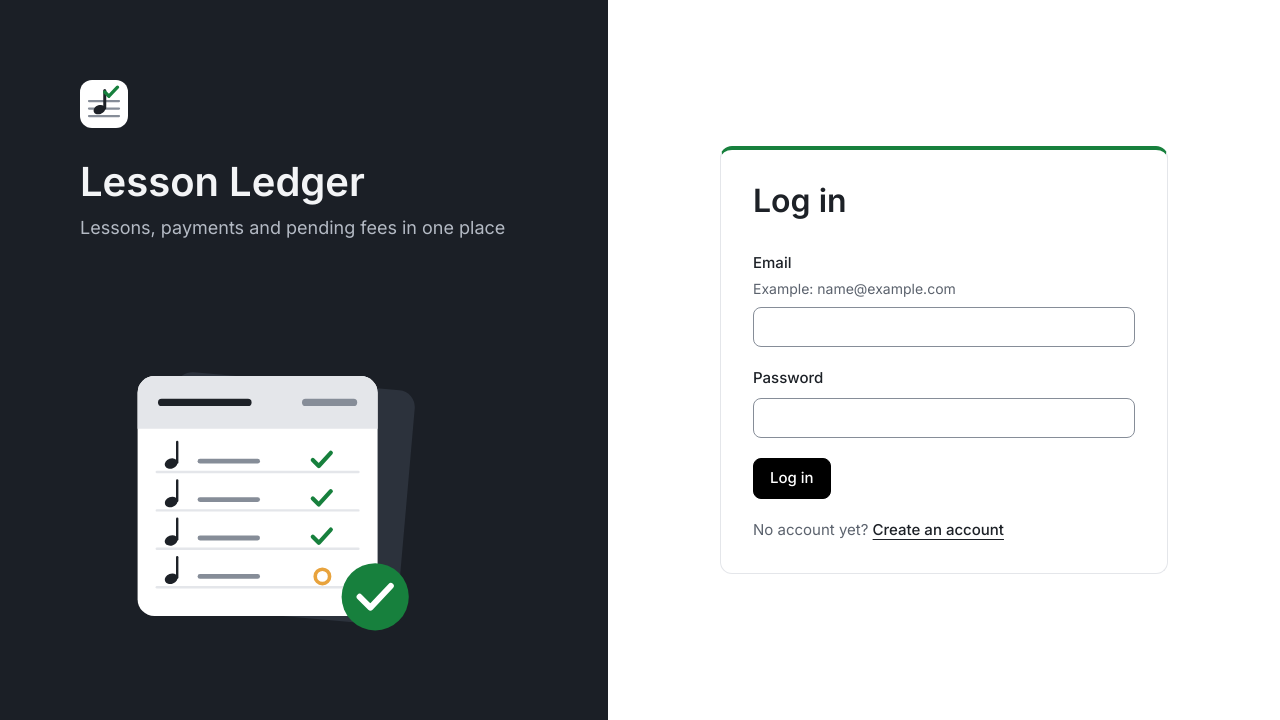
Test case: AC-2 login page › applies no format or length rule before sending
This screenshot has width=1280, height=720.
Expected: the heading "Log in" is shown, x1=753 y1=181 x2=847 y2=220
Type "not-an-email" into the field labelled "Email" at (944, 327), box x1=753 y1=307 x2=1135 y2=347
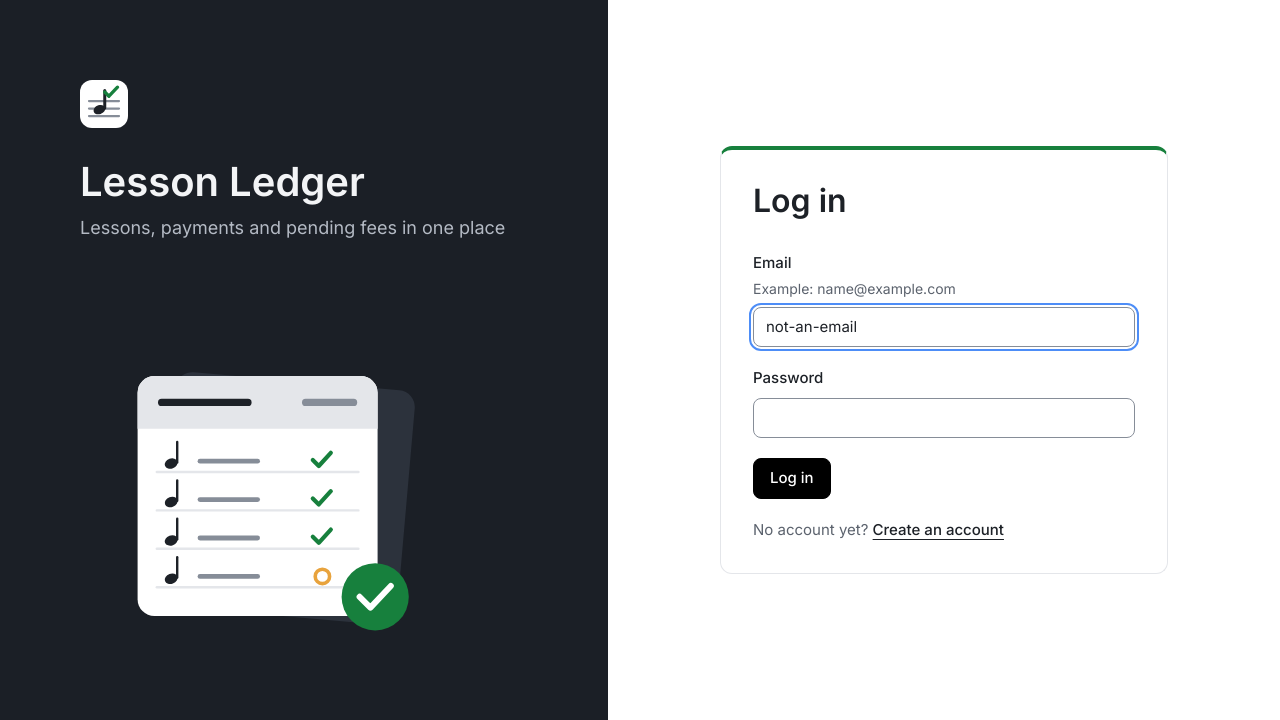
Type "short" into the password field labelled "Password" at (944, 418), box x1=753 y1=398 x2=1135 y2=438
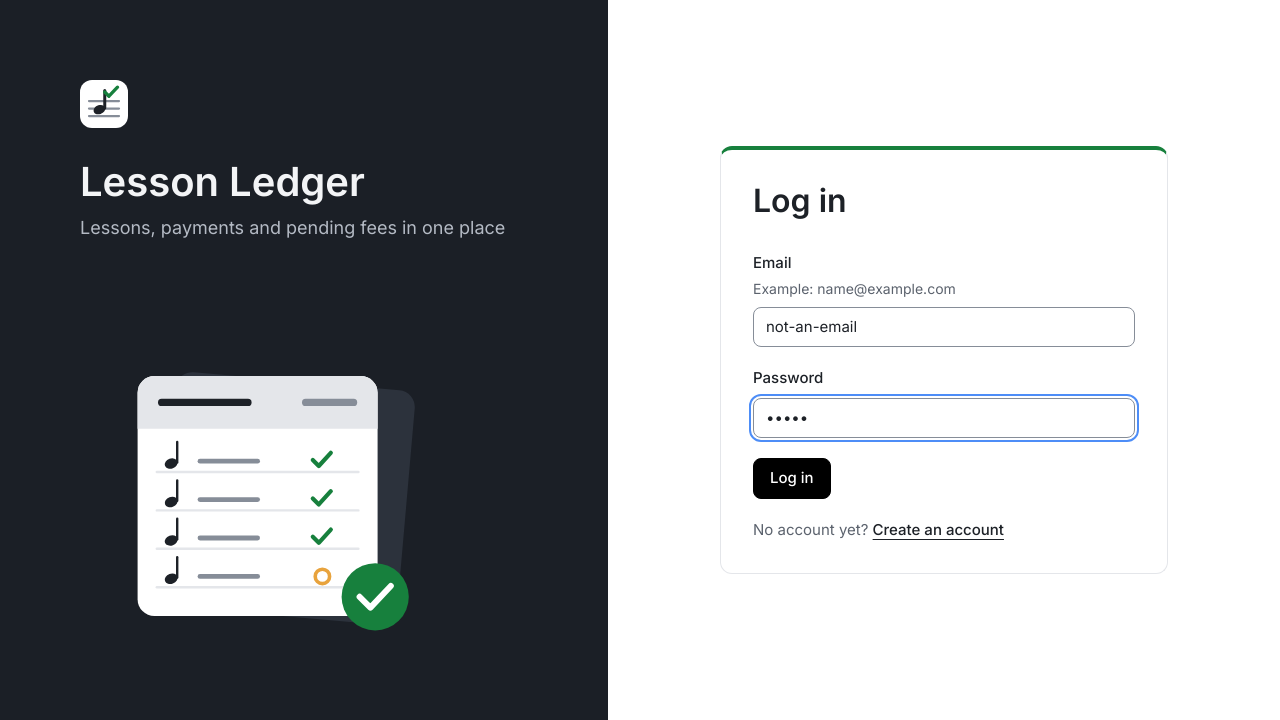
Click the button "Log in" at (792, 479), box x1=753 y1=458 x2=831 y2=499
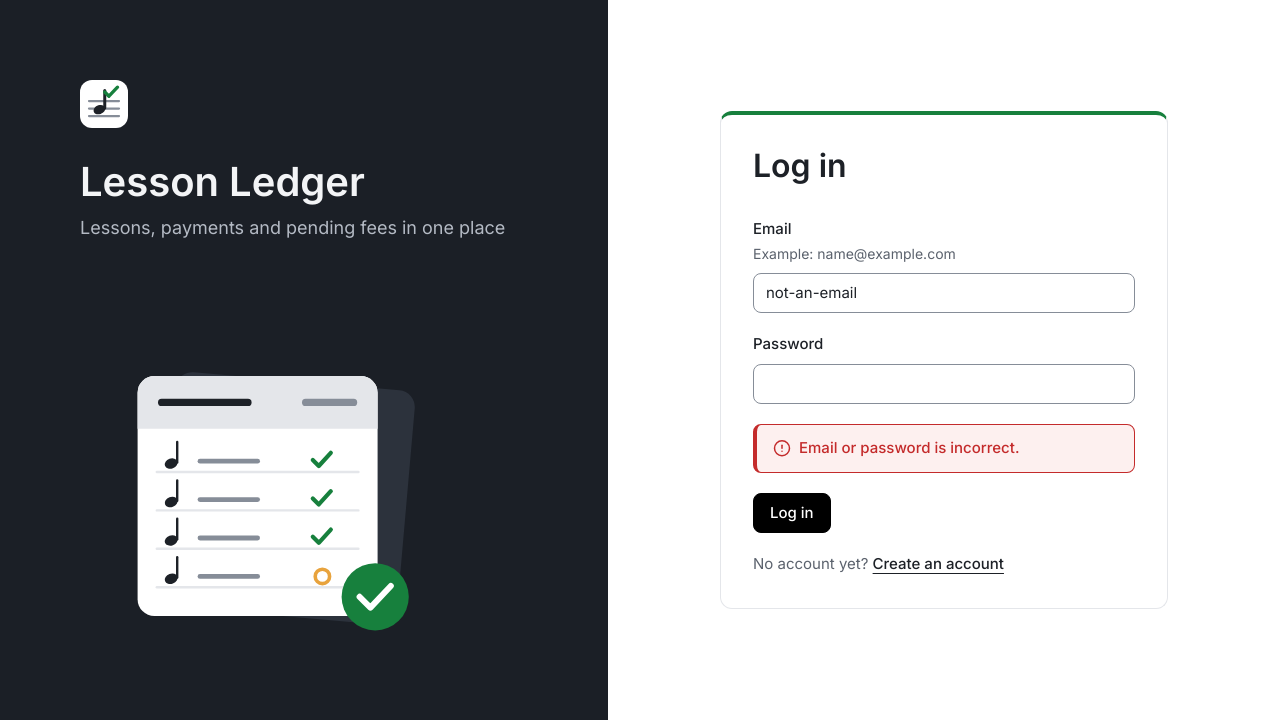
Expected: the message reads "Email or password is incorrect.", x1=799 y1=438 x2=1019 y2=457
